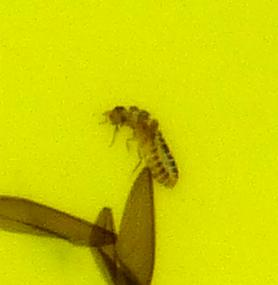Isoptera: (100, 100, 178, 185)
